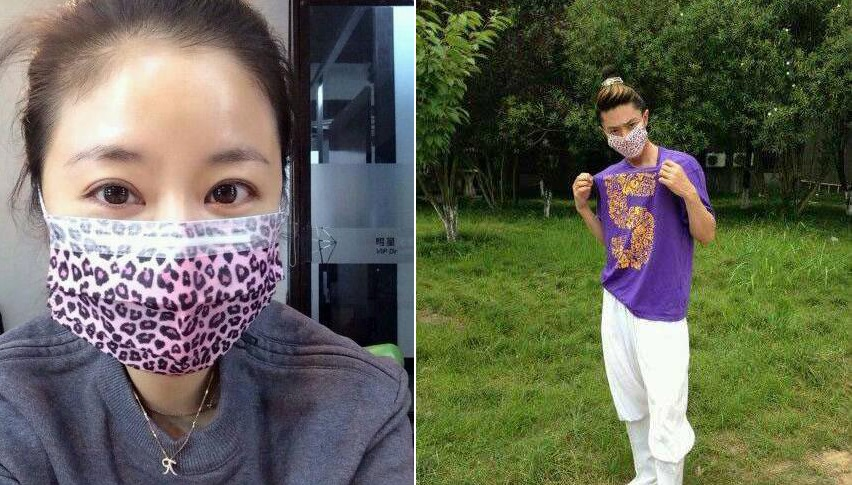face_mask: (24, 71, 296, 339), (596, 106, 648, 152)
